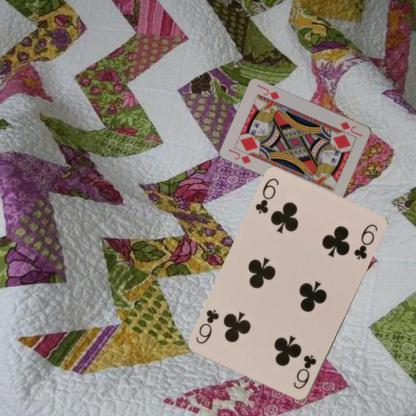6c: (253, 176, 280, 216), (290, 353, 318, 391)
Jd: (338, 119, 364, 138), (226, 146, 252, 165)
